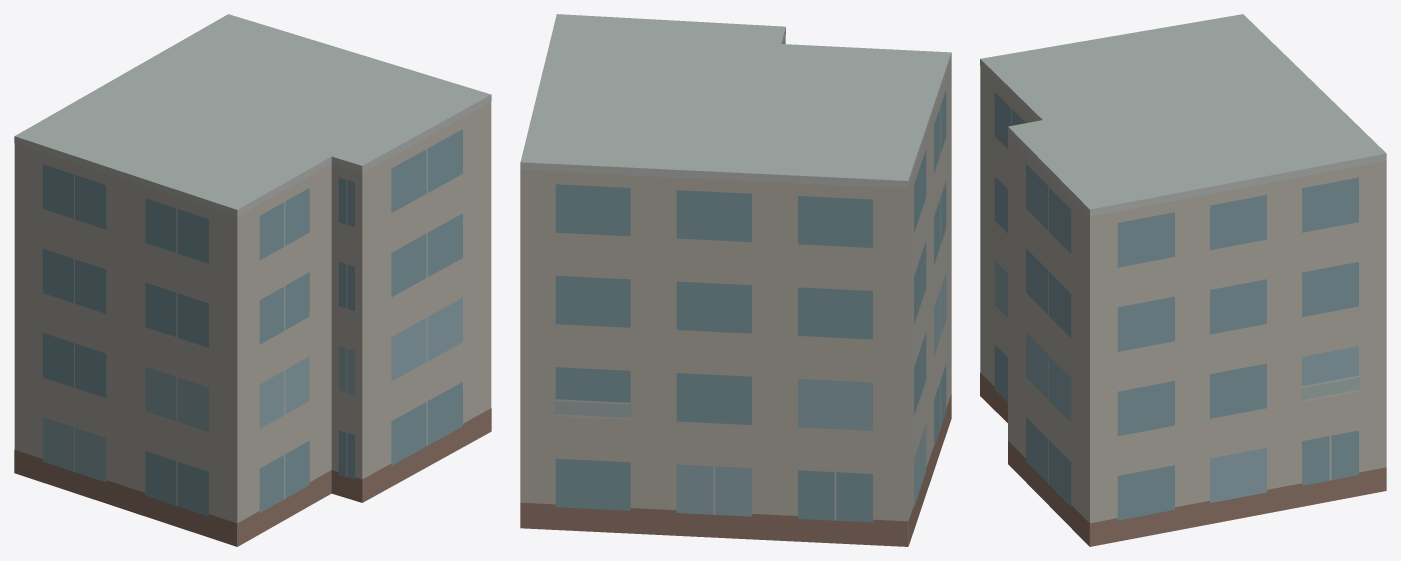
Rendered from survey-upis-33037699.glb.
3 renders of one model, left to right at view 1: azimuth 30°, elevation 25°; view 2: azimuth 150°, elevation 25°; view 3: azimuth 270°, elevation 25°, orthographic. The views are drawn at different scales.
Parts seen in each view (by area): view 1: survey-upis-33037699.tmp; view 2: survey-upis-33037699.tmp; view 3: survey-upis-33037699.tmp.
Boxes of the visible parts, x1=… form: survey-upis-33037699.tmp: x1=14, y1=14, x2=491, y2=546; survey-upis-33037699.tmp: x1=520, y1=14, x2=951, y2=546; survey-upis-33037699.tmp: x1=980, y1=14, x2=1386, y2=546.
Bounding box in the file's own units: 14.35 × 11.53 × 12.6.
